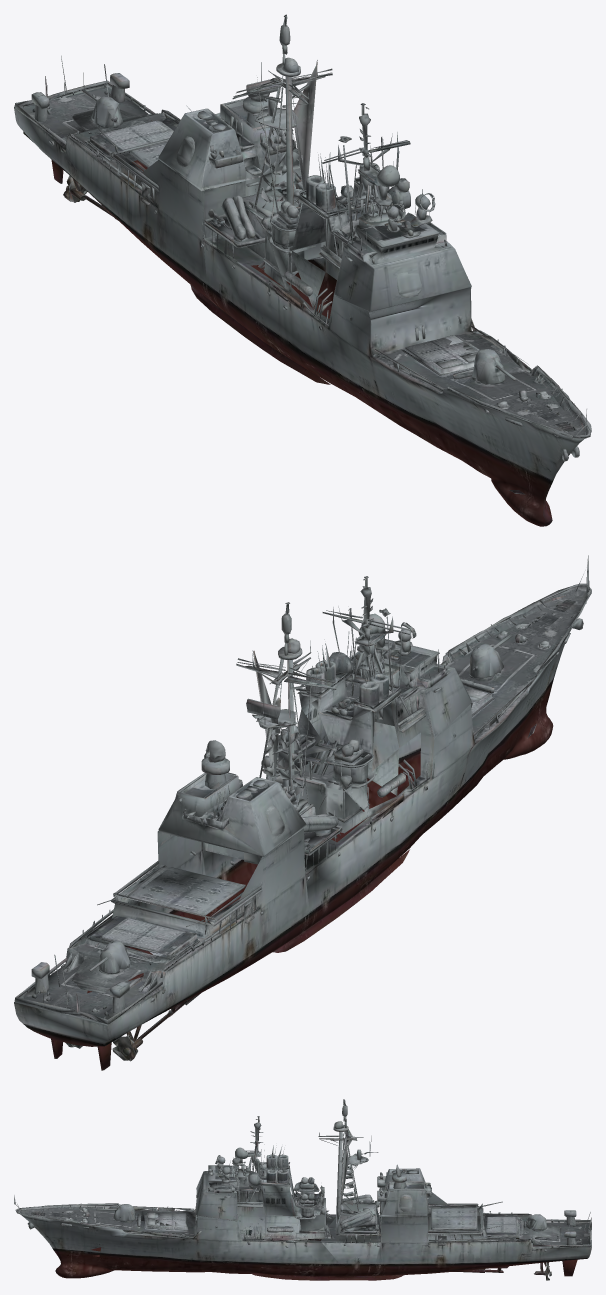
Rendered from cruiser.glb.
3 views of the same model, one above another, from view 1: azimuth 30°, elevation 25°; view 2: azimuth 150°, elevation 25°; view 3: azimuth 270°, elevation 25° (orthographic). The views are drawn at different scales.
Parts seen in each view (by area): view 1: hull, P_turret, P_turret2; view 2: hull, P_turret, P_turret2; view 3: hull, P_turret, P_turret2.
Part boxes in pixels (x1,y1,x2,y2): hull: (14,14,591,526); P_turret: (472,349,564,412); P_turret2: (82,89,172,151); hull: (14,555,591,1070); P_turret: (456,619,556,683); P_turret2: (89,918,194,971); hull: (14,1099,591,1280); P_turret: (65,1204,135,1233); P_turret2: (486,1214,563,1234).
Bounding box in the file's own units: 20.84 × 58.67 × 173.
Materials: 3 (3 with a texture image).
